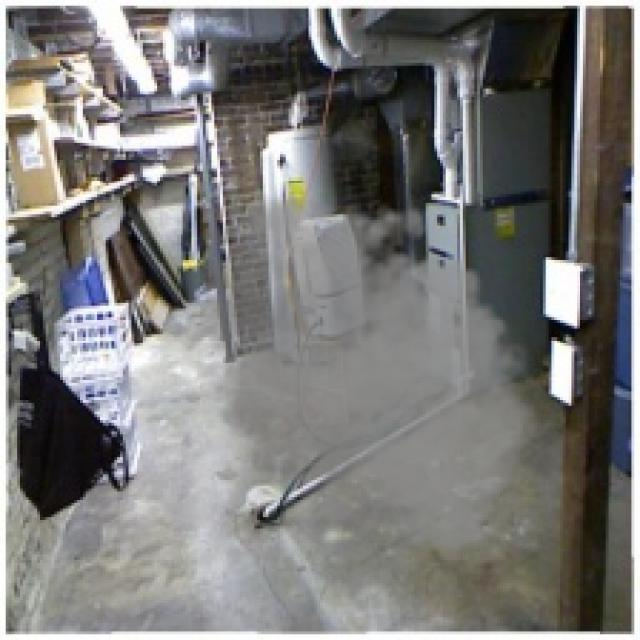Smoke: (172, 180, 552, 560)
